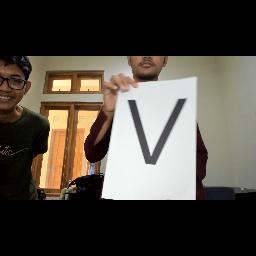v: (122, 90, 192, 174)
